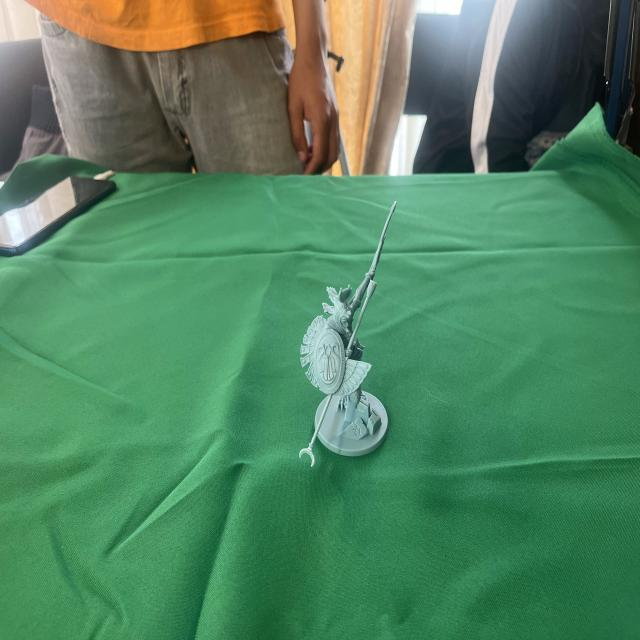isis: (293, 193, 402, 474)
